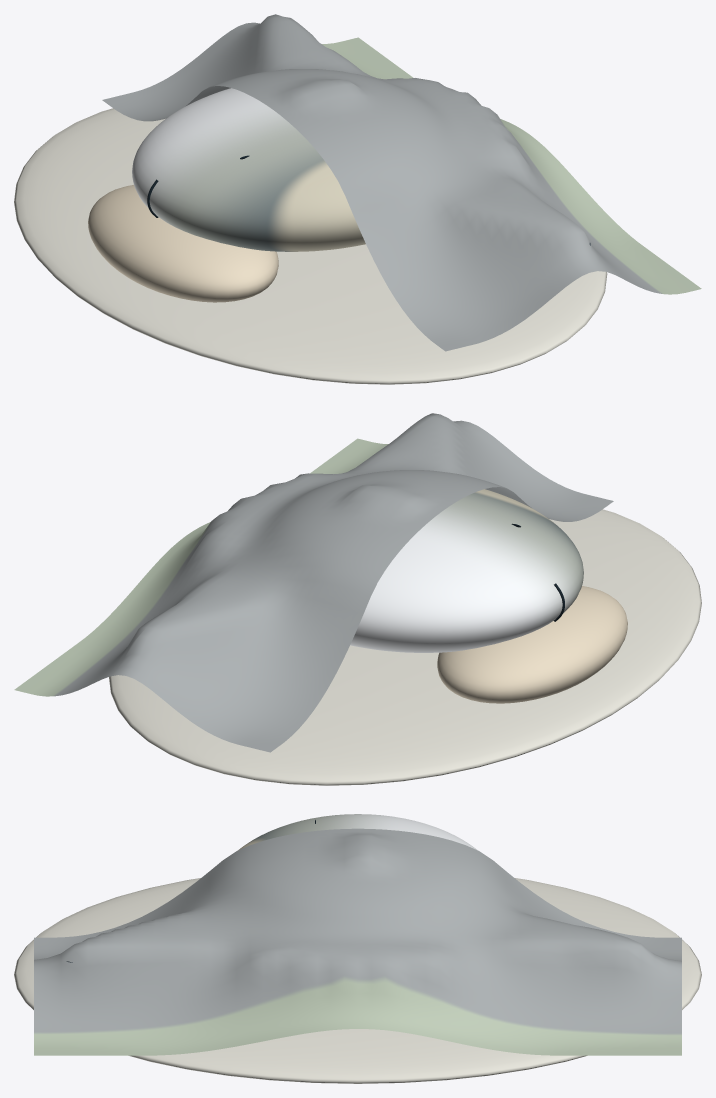
File: covered.glb
The picture shows the model from 3 angles, top to bottom: view 1: azimuth 30°, elevation 25°; view 2: azimuth 150°, elevation 25°; view 3: azimuth 270°, elevation 25°; orthographic projection. The views are drawn at different scales.
Parts seen in each view (by area): view 1: KiabouBlanket, KiabouBed, KiabouRestBody, KiabouPillow; view 2: KiabouBlanket, KiabouBed, KiabouRestBody, KiabouPillow; view 3: KiabouBlanket, KiabouBed, KiabouRestBody.
Part boxes in pixels (<box>): KiabouBlanket: <box>102,14,701,351</box>; KiabouBed: <box>14,108,607,384</box>; KiabouRestBody: <box>132,88,590,251</box>; KiabouPillow: <box>88,185,278,302</box>; KiabouBlanket: <box>14,413,613,752</box>; KiabouBed: <box>109,509,701,785</box>; KiabouRestBody: <box>350,489,583,652</box>; KiabouPillow: <box>437,586,627,703</box>; KiabouBlanket: <box>34,828,681,1055</box>; KiabouBed: <box>14,878,701,1083</box>; KiabouRestBody: <box>66,814,477,962</box>.
Size of the model in its own units: 0.228 by 0.0768 by 0.308.
7 materials, 3 textured.
